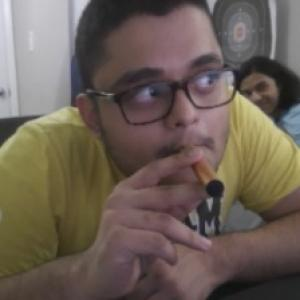Golden-E-Ciggirate: (188, 148, 228, 199)
